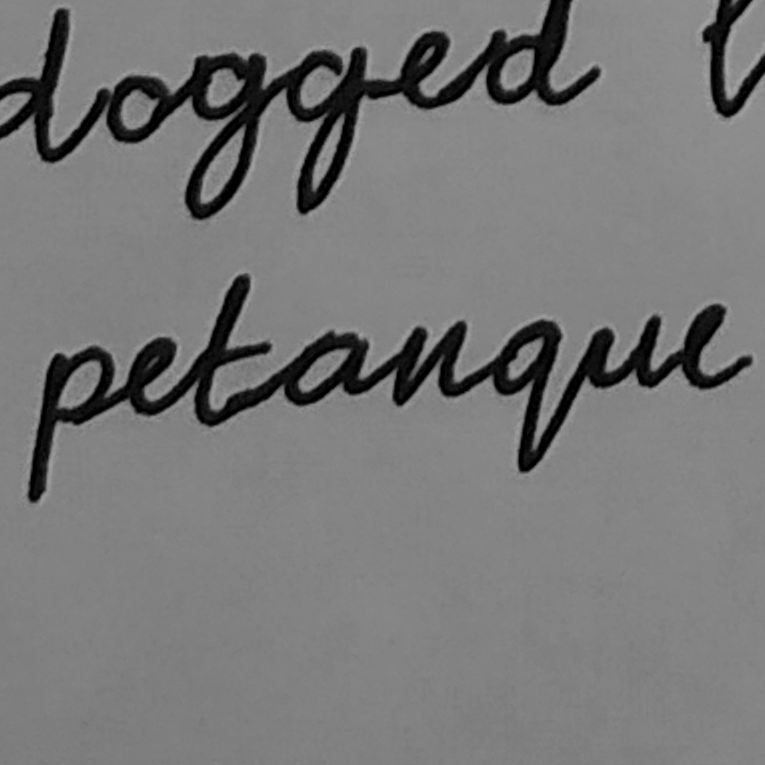a: (280, 325, 375, 409)
e: (675, 293, 759, 396), (123, 331, 183, 424)
n: (384, 313, 476, 413)
p: (22, 340, 120, 509)
q: (487, 312, 568, 481)
t: (186, 265, 278, 433)
u: (575, 306, 667, 394)
